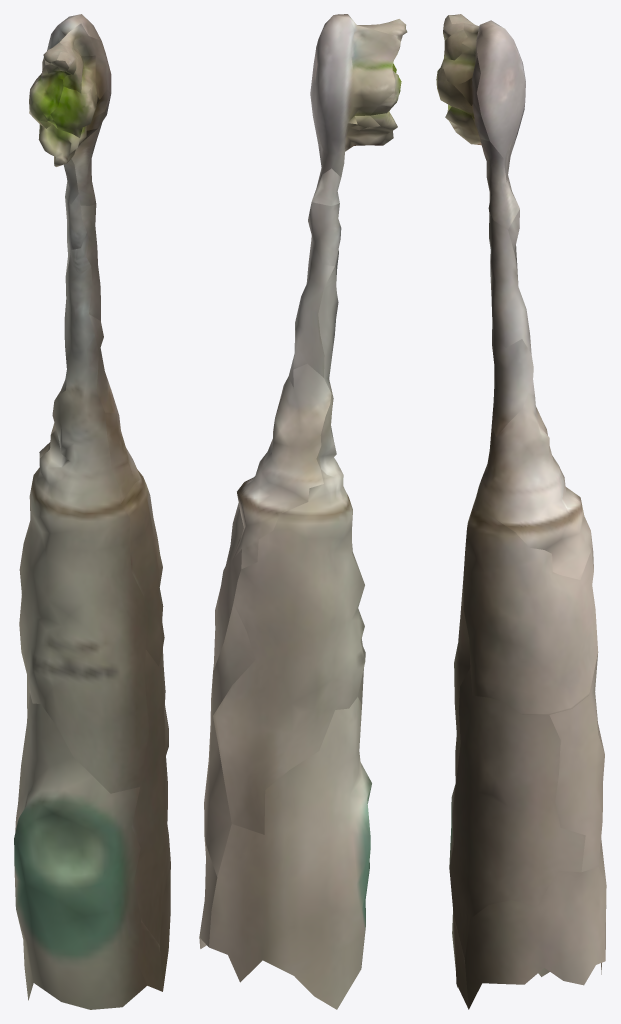
Rendered from toothbrushShort.fbx.
3 renders of one model, left to right at view 1: azimuth 30°, elevation 25°; view 2: azimuth 150°, elevation 25°; view 3: azimuth 270°, elevation 25°, orthographic. The views are drawn at different scales.
Visible parts, largest first — view 1: meshes_0_; view 2: meshes_0_; view 3: meshes_0_.
Part boxes in pixels (left/top/right/bottom): meshes_0_: left=14, top=14, right=170, bottom=1009; meshes_0_: left=199, top=14, right=407, bottom=1009; meshes_0_: left=436, top=14, right=606, bottom=1009.
Size of the model in its own units: 0.068 by 0.4244 by 0.0679.
Materials: 1 (1 with a texture image).
